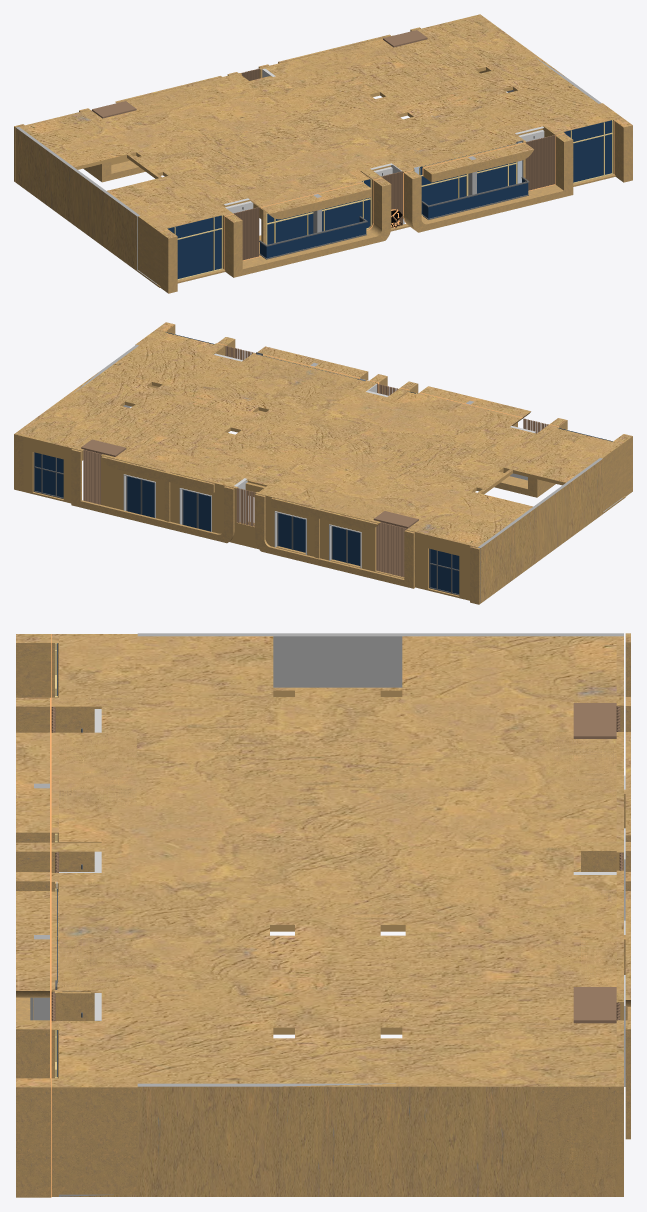
The model's file is firstfloor.compressed.glb.
The picture shows the model from 3 angles, top to bottom: view 1: azimuth 30°, elevation 25°; view 2: azimuth 150°, elevation 25°; view 3: azimuth 270°, elevation 25°; orthographic projection. The views are drawn at different scales.
Parts seen in each view (by area): view 1: FIRST FLOOR; view 2: FIRST FLOOR; view 3: FIRST FLOOR.
Part boxes in pixels (x1=…): FIRST FLOOR: x1=14, y1=14, x2=632, y2=293; FIRST FLOOR: x1=14, y1=322, x2=632, y2=604; FIRST FLOOR: x1=16, y1=633, x2=630, y2=1197.
Bounding box in the file's own units: 11.1 × 1.29 × 6.35.
Materials: 10 (1 with a texture image).
